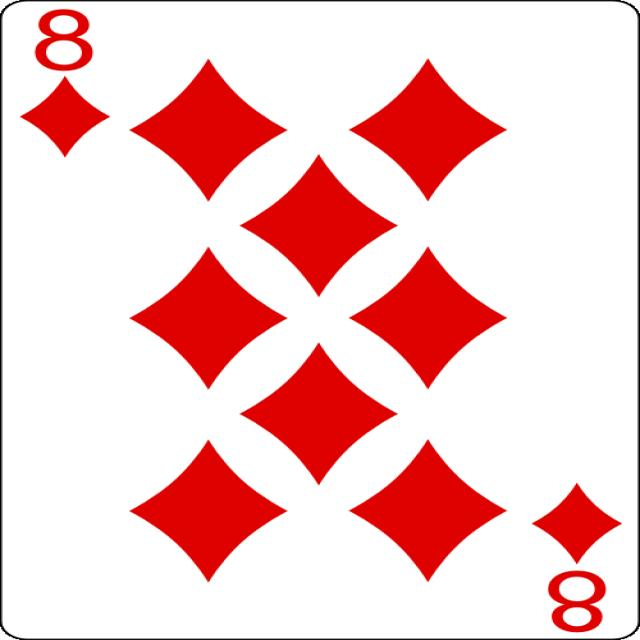Diamond: (350, 56, 509, 204), (348, 438, 509, 584), (238, 342, 400, 486), (129, 439, 288, 584), (129, 246, 288, 390), (349, 246, 507, 390), (240, 155, 400, 297), (130, 59, 288, 201), (531, 482, 624, 564), (20, 76, 112, 156)
